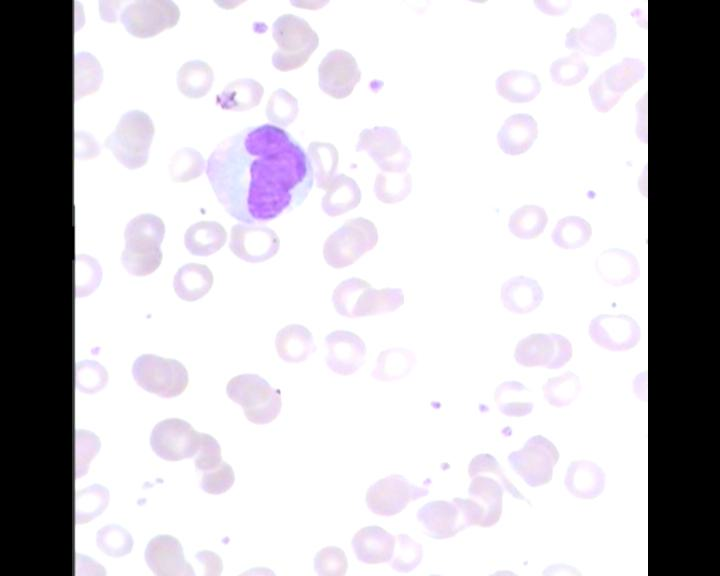mono: (205, 118, 317, 229)
